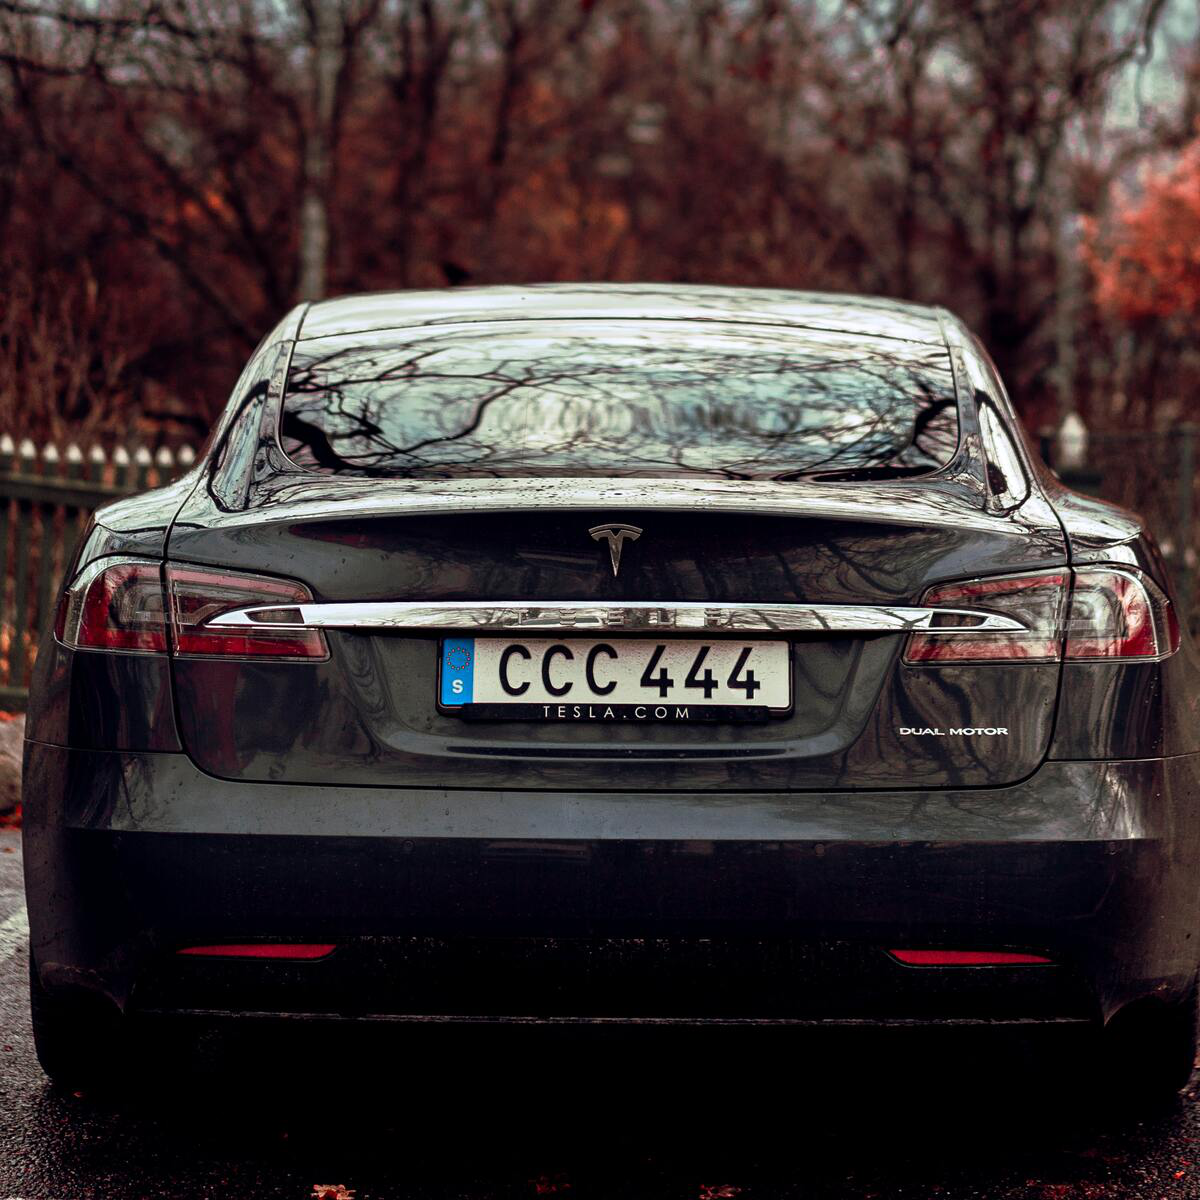licence: (472, 638, 784, 704)
